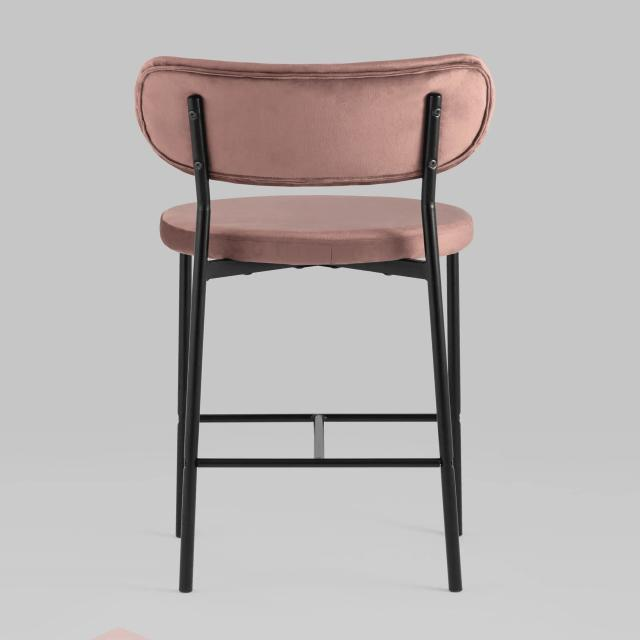chair: (128, 49, 500, 596), (137, 54, 496, 262)
